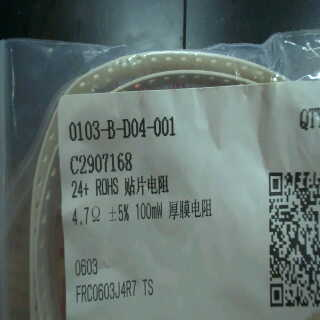4.7R: (69, 207, 103, 225)
